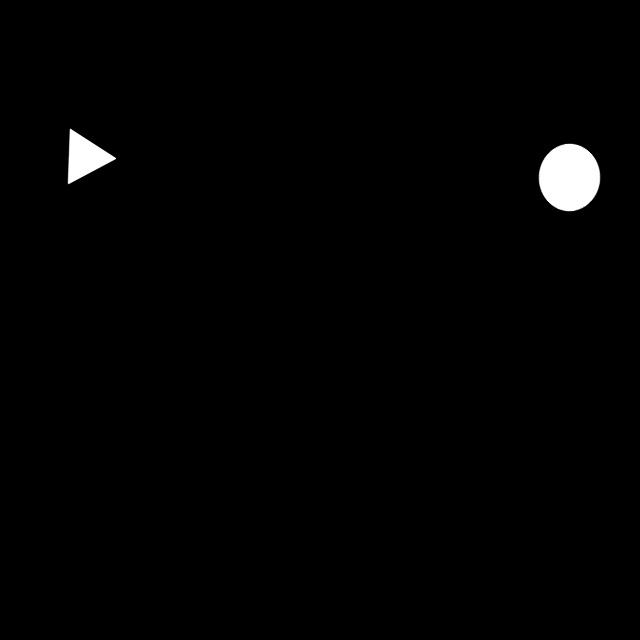Circle: (528, 132, 610, 227)
Triangle: (52, 116, 125, 202)
